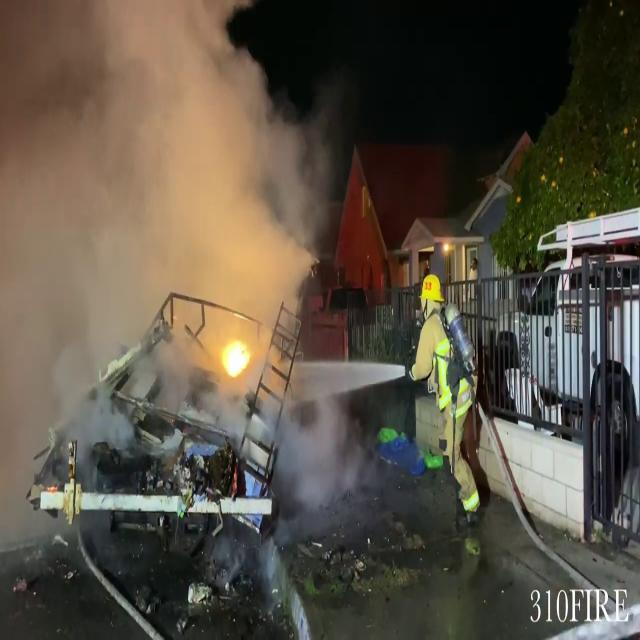Fire: (215, 327, 256, 382)
Smoke: (0, 0, 345, 531)
